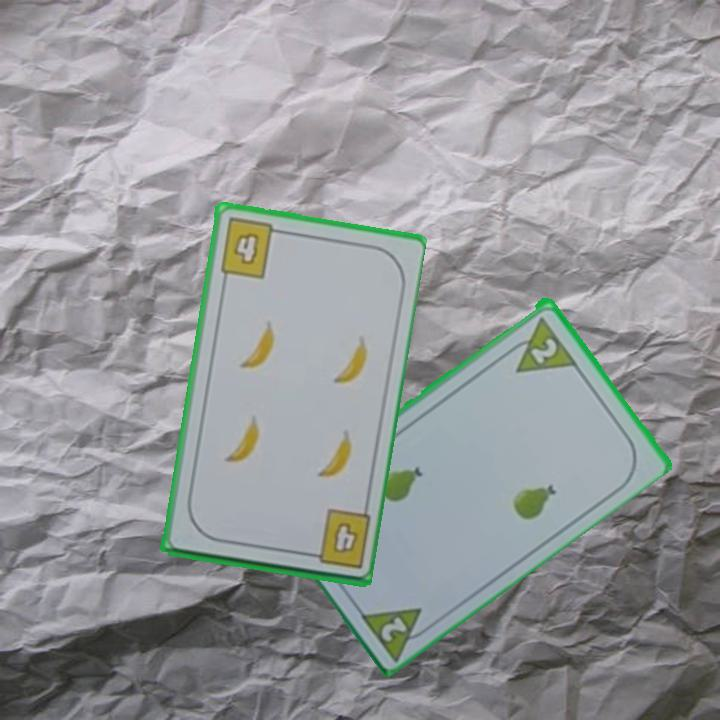2p: (526, 333, 561, 367), (377, 612, 410, 644)
4b: (216, 214, 286, 282), (301, 506, 373, 572)
